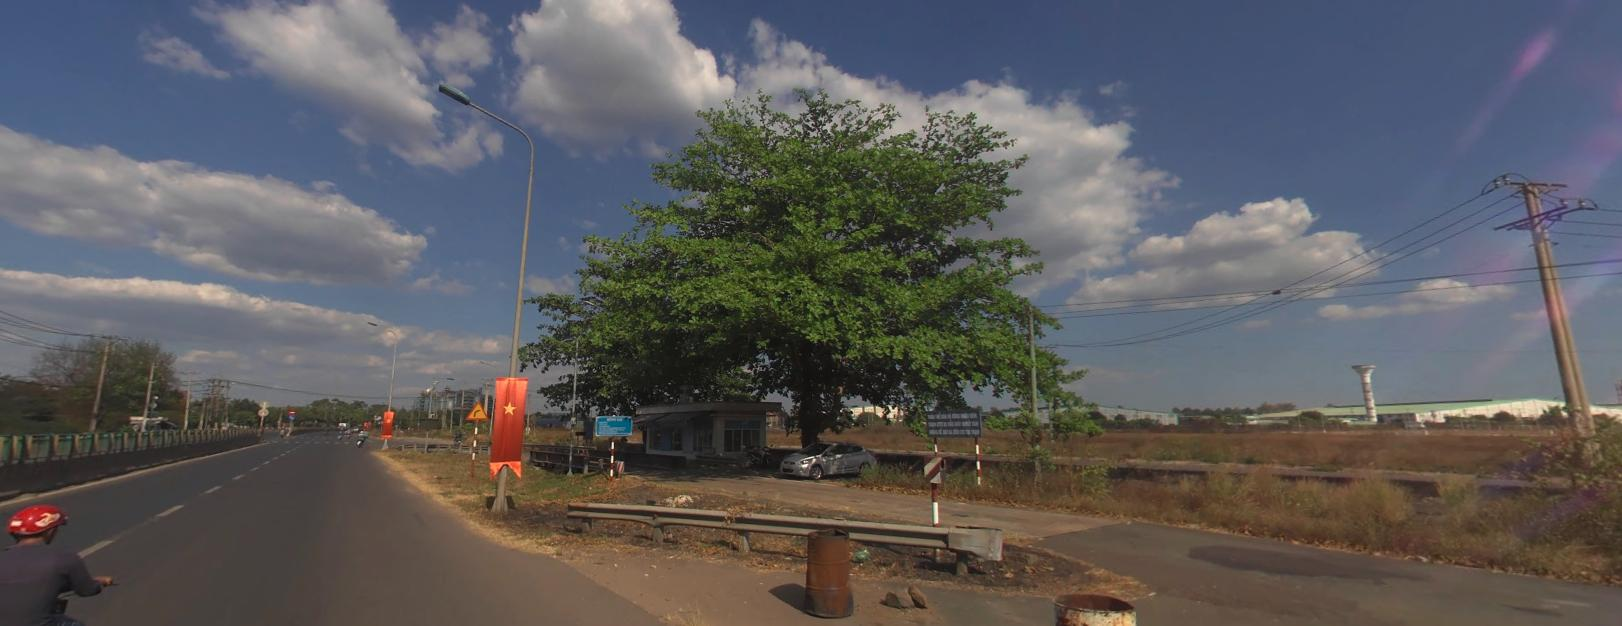Cam nguoc chieu: (287, 407, 294, 412)
Hieu lenh: (287, 413, 294, 418)
Nguy hiem: (465, 399, 488, 418)
